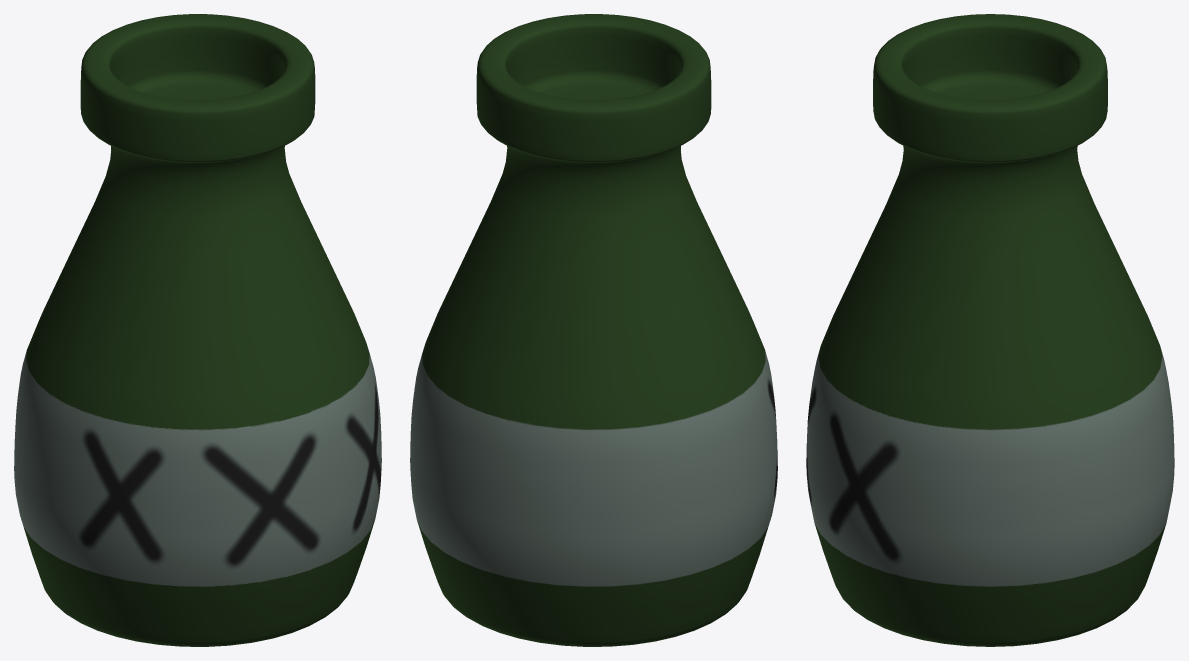
File: Cervesa Textura.fbx
3 views of the same model, side by side, from view 1: azimuth 30°, elevation 25°; view 2: azimuth 150°, elevation 25°; view 3: azimuth 270°, elevation 25° (orthographic).
Visible parts, largest first — view 1: Cervesa; view 2: Cervesa; view 3: Cervesa.
Part boxes in pixels (x1,y1,x2,y2): Cervesa: (14, 14, 381, 646); Cervesa: (410, 14, 777, 646); Cervesa: (806, 14, 1174, 646).
Bounding box in the file's own units: 0.6296 × 0.991 × 0.6296.
Materials: 1 (1 with a texture image).
